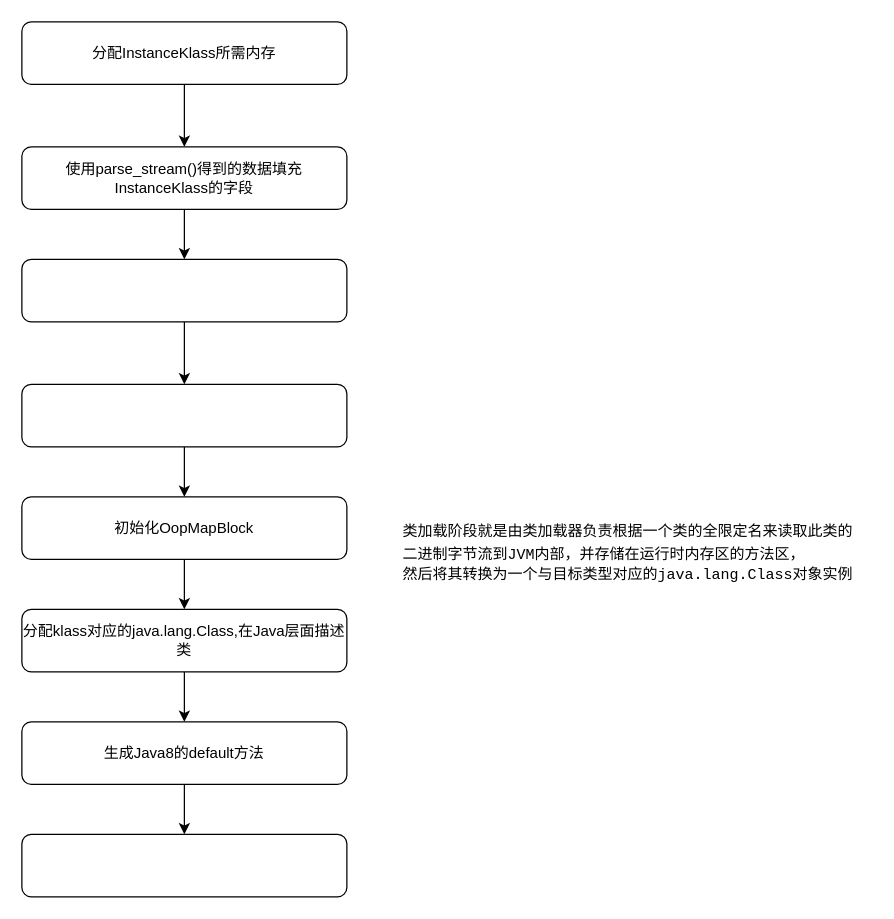
This 894x919 diagram has some shape labels left out. The shapes that lost their labels are listed below. From the top down, each one's centre as x and y in pixels, then its label:
point 184,290: 如果引入了miranda方法，则设置对应的flag
point 184,415: 初始化itable
point 184,865: 得到完整的InstanceKlass
